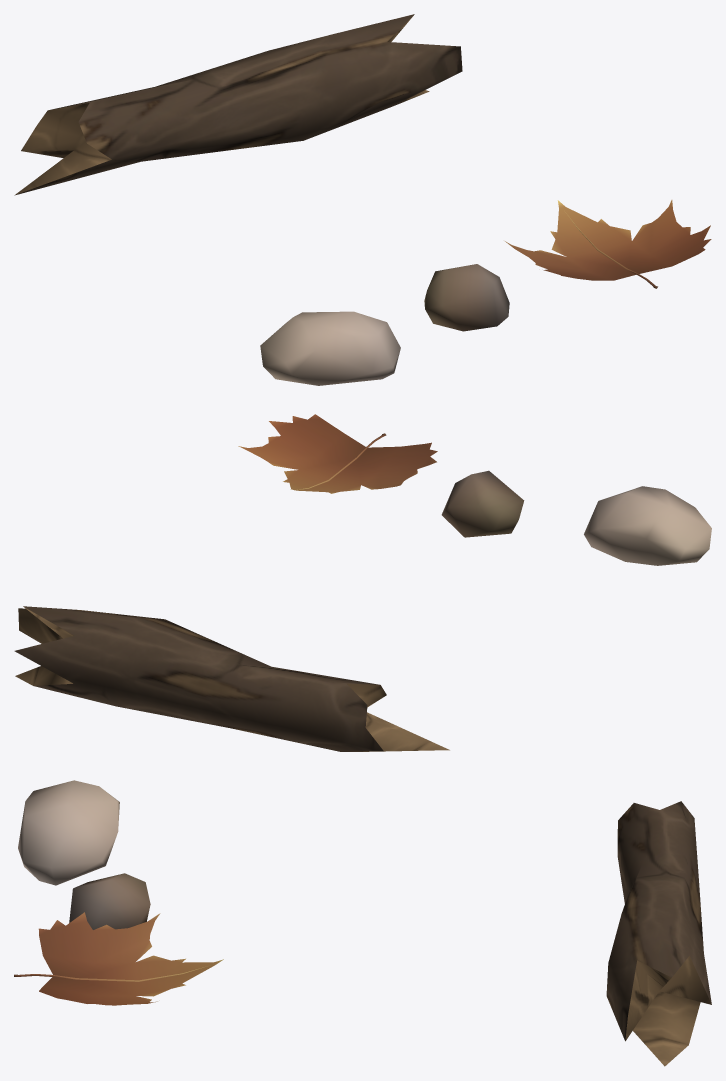
File: Scatter.fbx
3 renders of one model, top to bottom at view 1: azimuth 30°, elevation 25°; view 2: azimuth 150°, elevation 25°; view 3: azimuth 270°, elevation 25°, orthographic. The views are drawn at different scales.
Visible parts, largest first — view 1: Twig, Pebble_B, Leaf_Maple, Pebble_A; view 2: Twig, Leaf_Maple, Pebble_B, Pebble_A; view 3: Twig, Leaf_Maple, Pebble_B, Pebble_A.
Boxes of the visible parts, left/top/right/bottom form: Twig: left=14, top=14, right=462, bottom=195; Pebble_B: left=260, top=311, right=400, bottom=385; Leaf_Maple: left=505, top=200, right=711, bottom=288; Pebble_A: left=424, top=264, right=509, bottom=331; Twig: left=14, top=606, right=449, bottom=751; Leaf_Maple: left=238, top=414, right=437, bottom=493; Pebble_B: left=584, top=486, right=711, bottom=565; Pebble_A: left=441, top=470, right=524, bottom=537; Twig: left=606, top=801, right=711, bottom=1066; Leaf_Maple: left=14, top=912, right=223, bottom=1005; Pebble_B: left=18, top=780, right=119, bottom=885; Pebble_A: left=69, top=873, right=150, bottom=929.
Size of the model in its own units: 23.17 by 4.27 by 28.69.
